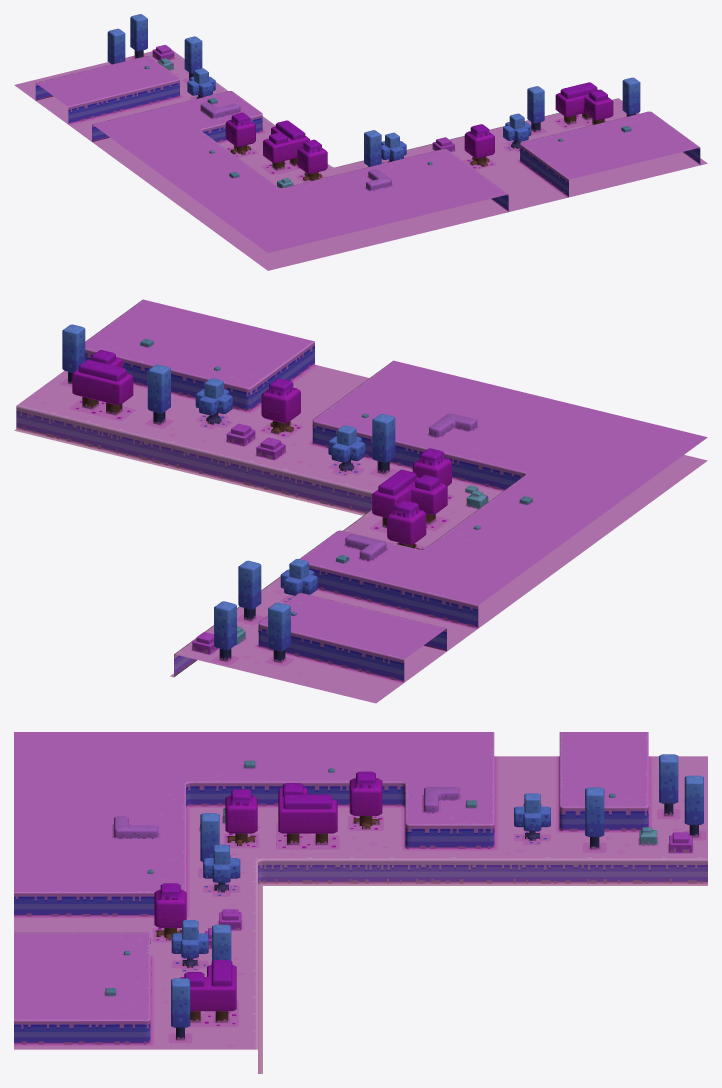
File: C_forest2_out_RU.fbx
The picture shows the model from 3 angles, top to bottom: view 1: azimuth 30°, elevation 25°; view 2: azimuth 150°, elevation 25°; view 3: azimuth 270°, elevation 25°; orthographic projection. The views are drawn at different scales.
Visible parts, largest first — view 1: C_forest2_out_RU.001; view 2: C_forest2_out_RU.001; view 3: C_forest2_out_RU.001.
Part boxes in pixels (bbox=[...]): C_forest2_out_RU.001: bbox=[14, 14, 707, 270]; C_forest2_out_RU.001: bbox=[14, 299, 707, 703]; C_forest2_out_RU.001: bbox=[14, 732, 707, 1073].
Bounding box in the file's own units: 117 × 15.31 × 117.
Materials: 1 (1 with a texture image).
